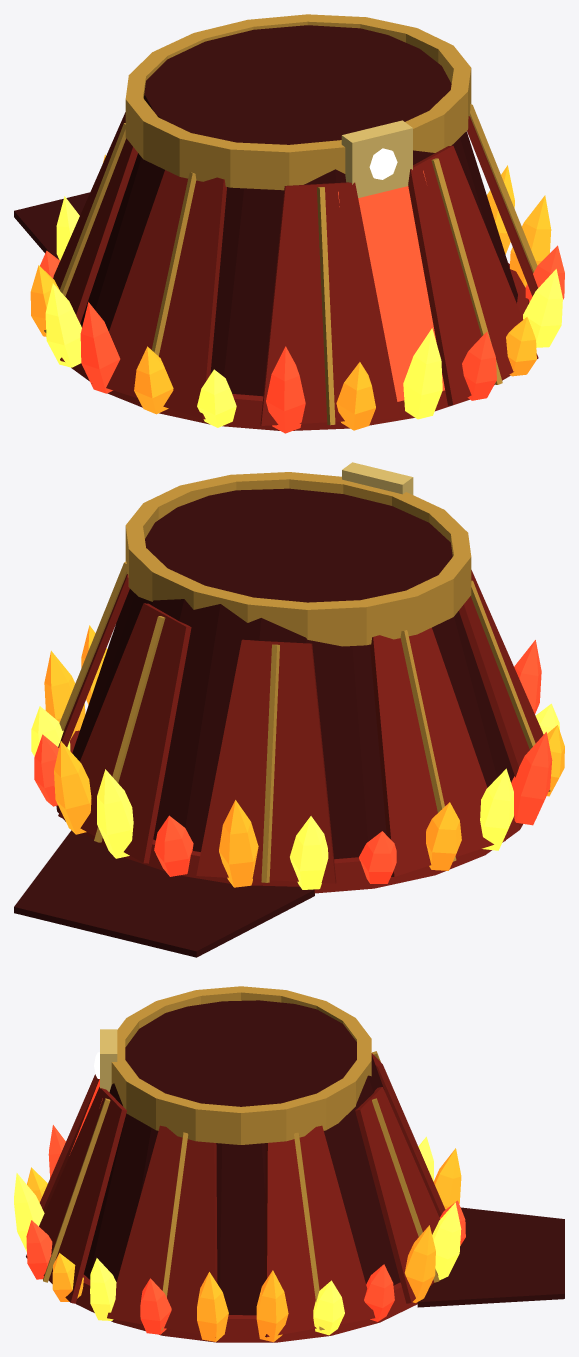
The model's file is ember_queen_gown.glb.
The picture shows the model from 3 angles, top to bottom: view 1: azimuth 30°, elevation 25°; view 2: azimuth 150°, elevation 25°; view 3: azimuth 270°, elevation 25°; orthographic projection. The views are drawn at different scales.
Parts seen in each view (by area): view 1: ember_queen_gown; view 2: ember_queen_gown; view 3: ember_queen_gown.
Boxes of the visible parts, x1=… form: ember_queen_gown: x1=14, y1=14, x2=564, y2=433; ember_queen_gown: x1=14, y1=462, x2=564, y2=957; ember_queen_gown: x1=14, y1=986, x2=564, y2=1342.
Bounding box in the file's own units: 1.54 × 0.825 × 1.87.
